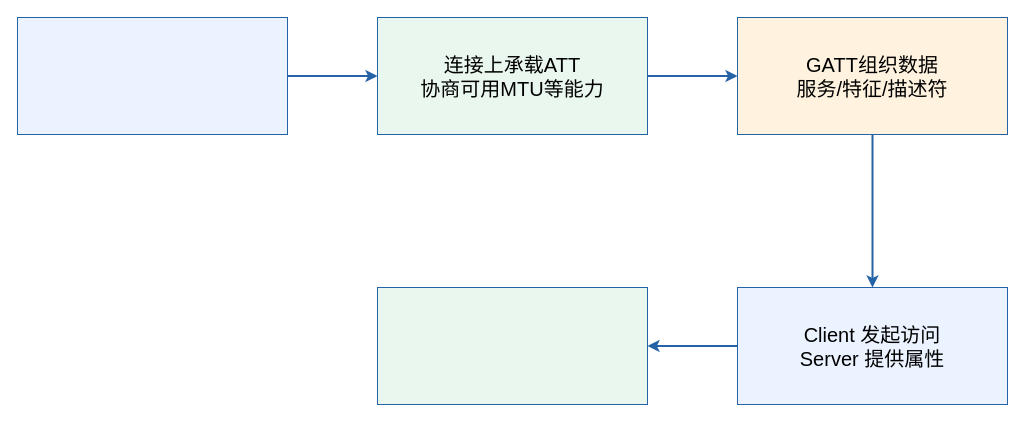
This 1025x422 diagram has some shape labels left out. The box of each missing label's shape, as (x1, y1, x2, y2) in pixels:
GAP层建立连接 Central / Peripheral: (16, 16, 288, 134)
业务协议 定义含义与完成条件: (376, 286, 648, 404)
